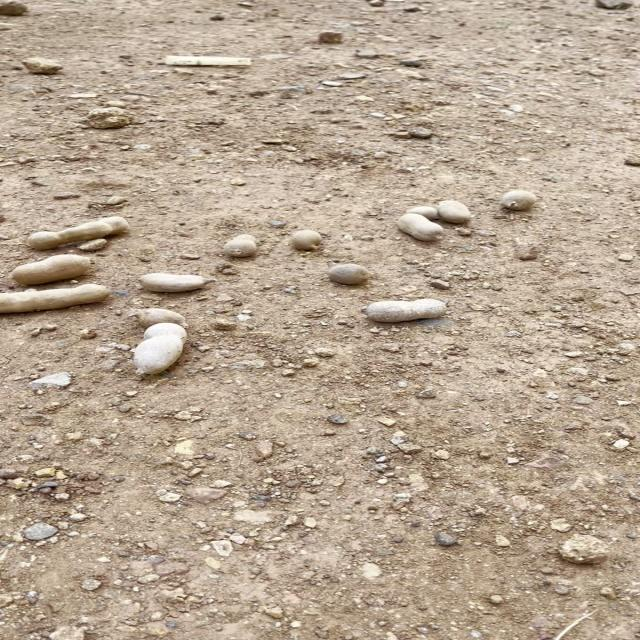tamarind: (22, 212, 134, 250), (0, 282, 110, 312), (137, 324, 193, 376), (8, 250, 98, 282), (362, 297, 460, 315), (393, 212, 445, 244), (134, 272, 217, 290), (218, 230, 264, 258), (290, 227, 332, 251), (139, 304, 184, 326), (497, 187, 537, 209), (322, 266, 370, 283), (434, 199, 474, 218)
